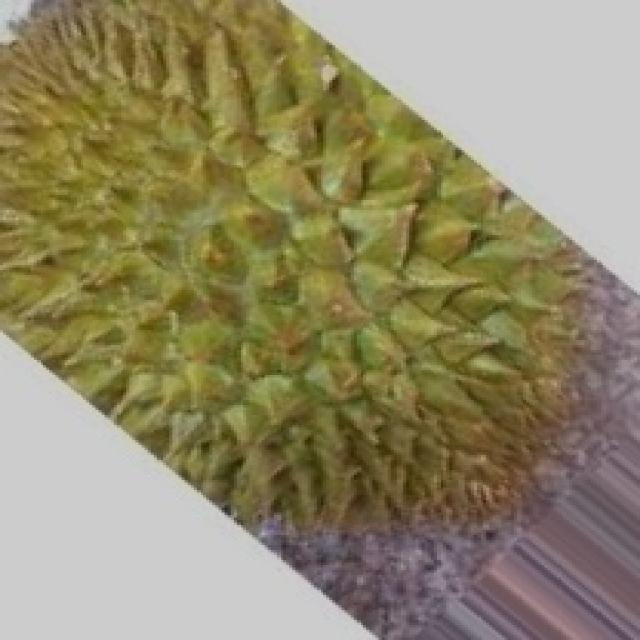fruit: (237, 210, 637, 638), (0, 202, 366, 620)
